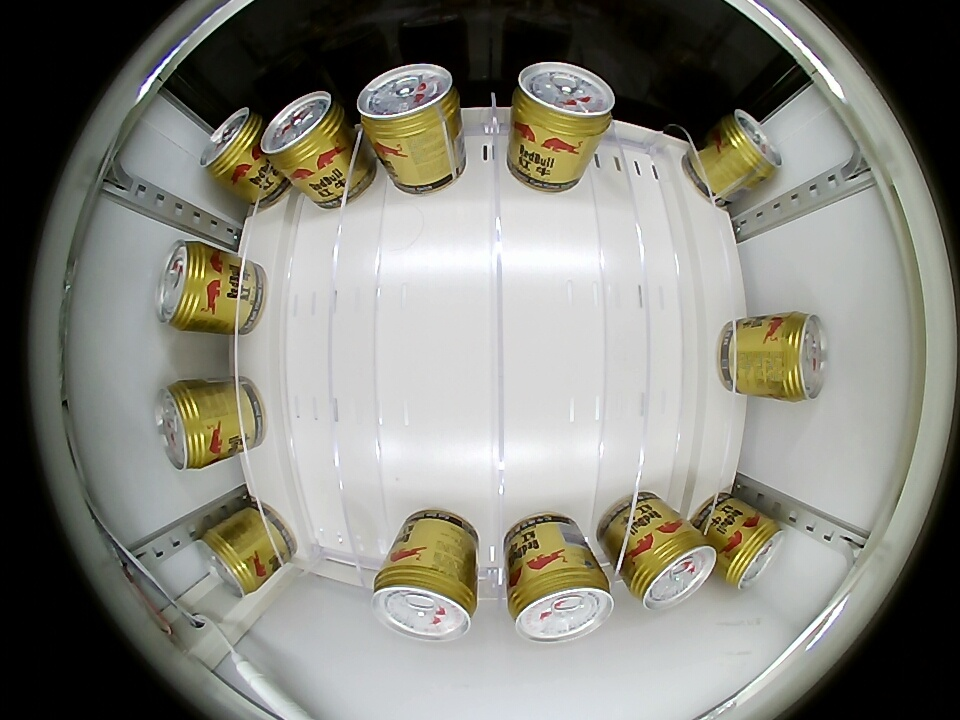hongniu2: (506, 560, 615, 644), (371, 559, 477, 641), (511, 62, 615, 144), (357, 64, 461, 145), (623, 527, 717, 610), (262, 91, 349, 174), (155, 241, 220, 331), (155, 381, 218, 472), (766, 311, 827, 403), (200, 107, 266, 183), (718, 108, 782, 184), (720, 517, 785, 590), (199, 525, 264, 595)
